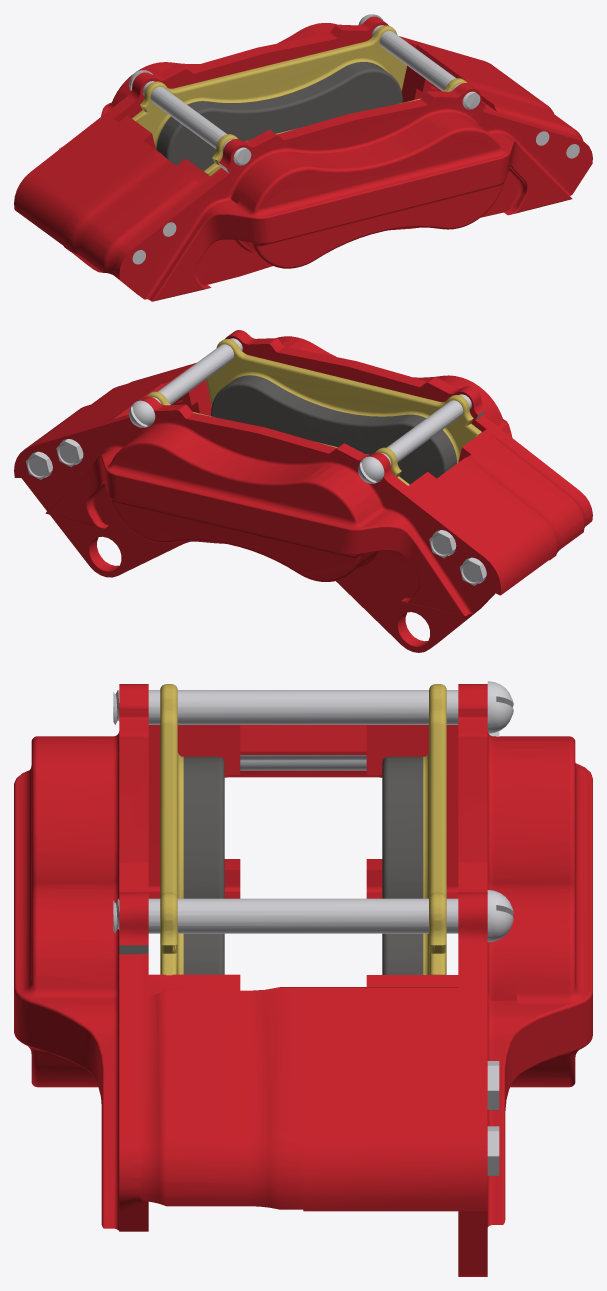
File: monoblock-4p.glb
3 views of the same model, one above another, from view 1: azimuth 30°, elevation 25°; view 2: azimuth 150°, elevation 25°; view 3: azimuth 270°, elevation 25° (orthographic). The views are drawn at different scales.
Visible parts, largest first — view 1: CaliperBody, Pad_Inner, CaliperHalf, PadPin1, PadPin2, Pad_Outer; view 2: CaliperHalf, CaliperBody, Pad_Outer, PadPin1, PadPin2, Bolt_A3, Bolt_A1, Bolt_A4, Bolt_A2, Pad_Inner; view 3: CaliperBody, CaliperHalf, Pad_Outer, Pad_Inner, PadPin2, PadPin1, Bolt_A1, Bolt_A2.
Part boxes in pixels (x1,y1,x2,y2): CaliperBody: [14, 16, 592, 301]; Pad_Inner: [132, 25, 407, 171]; CaliperHalf: [71, 22, 442, 272]; PadPin1: [129, 70, 251, 173]; PadPin2: [358, 14, 480, 109]; Pad_Outer: [204, 78, 467, 176]; CaliperHalf: [14, 410, 500, 652]; CaliperBody: [25, 330, 592, 594]; Pad_Outer: [206, 339, 481, 484]; PadPin1: [358, 394, 485, 483]; PadPin2: [129, 338, 242, 427]; Bolt_A3: [56, 439, 83, 467]; Bolt_A1: [459, 557, 486, 585]; Bolt_A4: [26, 451, 52, 479]; Bolt_A2: [429, 530, 456, 558]; Pad_Inner: [146, 391, 409, 485]; CaliperBody: [14, 684, 487, 1231]; CaliperHalf: [366, 725, 592, 1276]; Pad_Outer: [160, 684, 224, 975]; Pad_Inner: [382, 684, 446, 974]; PadPin2: [113, 890, 513, 954]; PadPin1: [113, 681, 513, 733]; Bolt_A1: [240, 760, 366, 770]; Bolt_A2: [240, 731, 499, 760].
Bounding box in the file's own units: 0.233 × 0.0846 × 0.1284.
